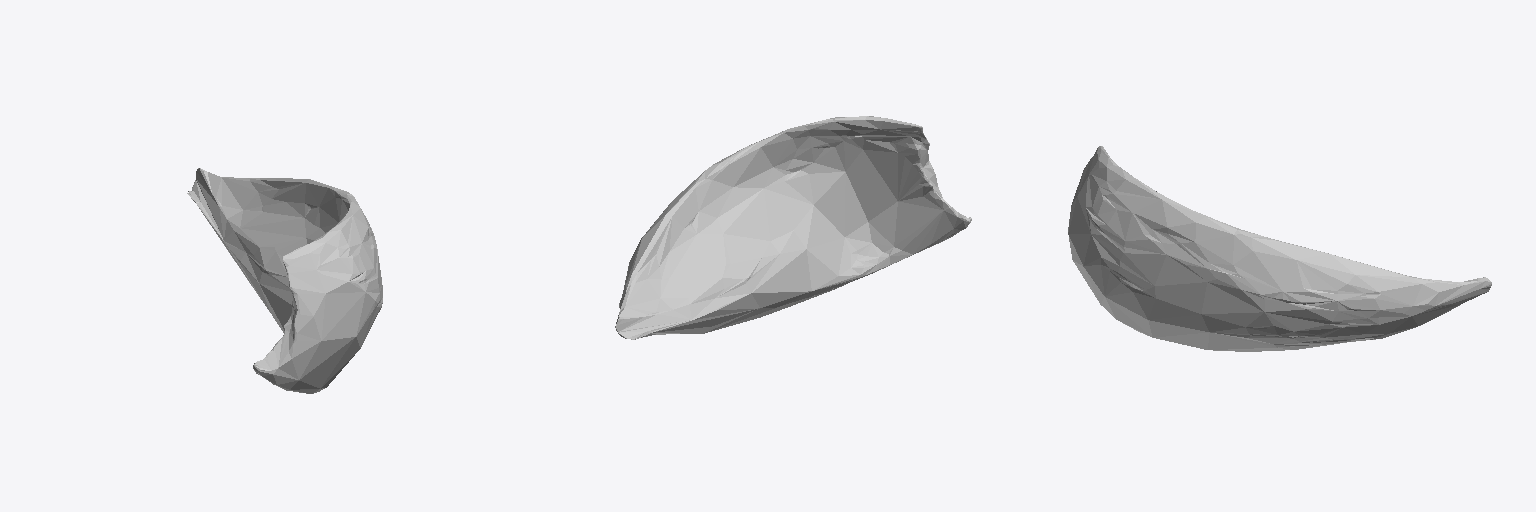
Rendered from acromial part of left deltoid.obj.
3 views of the same model, side by side, from view 1: azimuth 30°, elevation 25°; view 2: azimuth 150°, elevation 25°; view 3: azimuth 270°, elevation 25° (orthographic).
Parts seen in each view (by area): view 1: grp1; view 2: grp1; view 3: grp1.
Boxes of the visible parts, x1=… form: grp1: x1=187, y1=168, x2=382, y2=393; grp1: x1=615, y1=116, x2=971, y2=339; grp1: x1=1068, y1=146, x2=1491, y2=351.
Bounding box in the file's own units: 80.64 × 62.5 × 144.